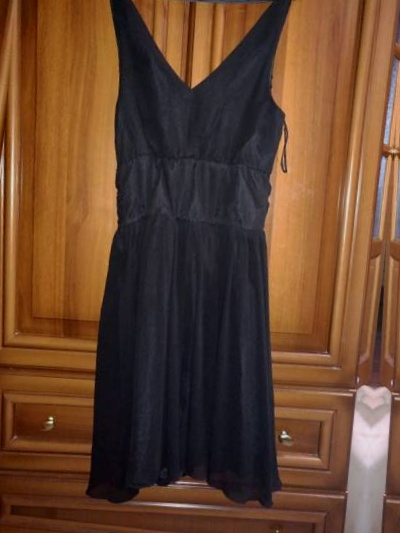Dress: (21, 0, 356, 526), (0, 520, 310, 533)
